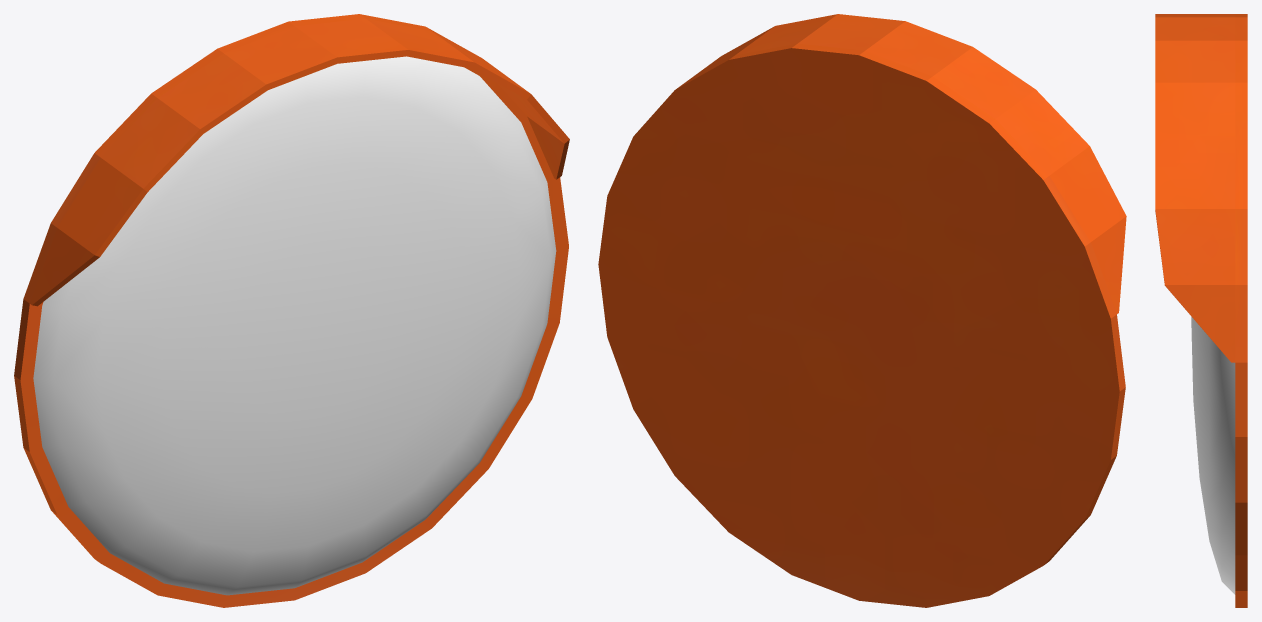
File: CurveMirror01.fbx
3 renders of one model, left to right at view 1: azimuth 30°, elevation 25°; view 2: azimuth 150°, elevation 25°; view 3: azimuth 270°, elevation 25°, orthographic. The views are drawn at different scales.
Parts seen in each view (by area): view 1: Empty_Mesh; view 2: Empty_Mesh; view 3: Empty_Mesh.
Part boxes in pixels (x1=…): Empty_Mesh: x1=14, y1=14, x2=569, y2=607; Empty_Mesh: x1=598, y1=14, x2=1126, y2=607; Empty_Mesh: x1=1155, y1=14, x2=1247, y2=607.
Size of the model in its own units: 0.6463 by 0.6463 by 0.1.
